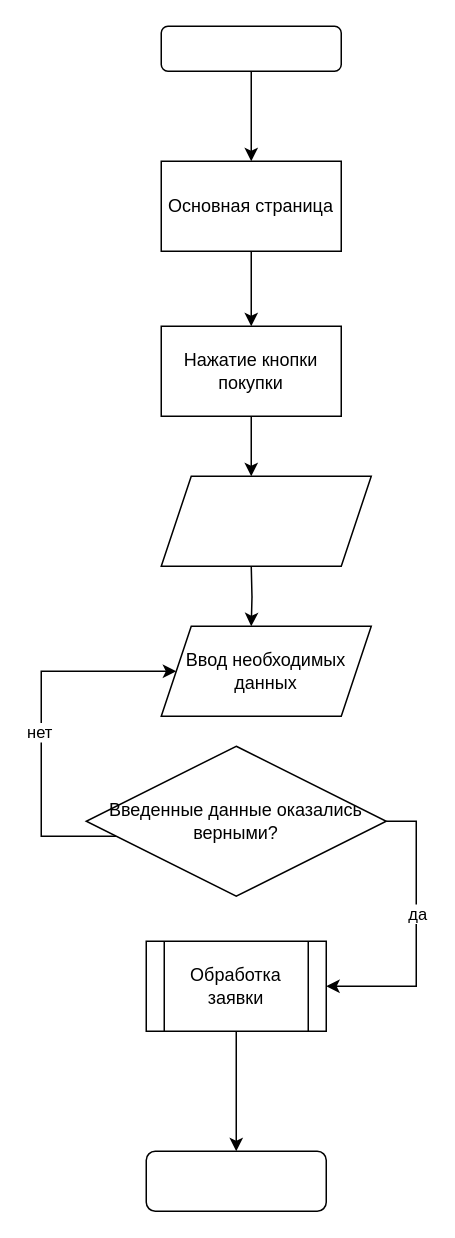
The diagram is 455 pixels wide and 1238 high, and some of its shapes have lost their labels. Here are the shapes that lost their labels. From the top down, the box of each, then its label:
(160, 25, 341, 71): Начало
(160, 475, 371, 566): Выбор подходящей даты
(145, 1150, 326, 1211): Конец
